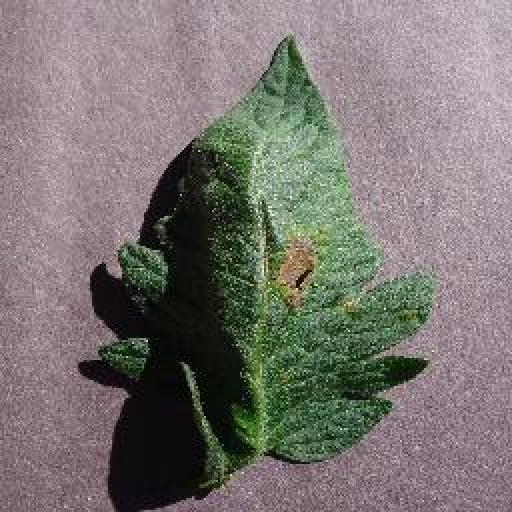disease_tomato: (103, 39, 432, 489)
